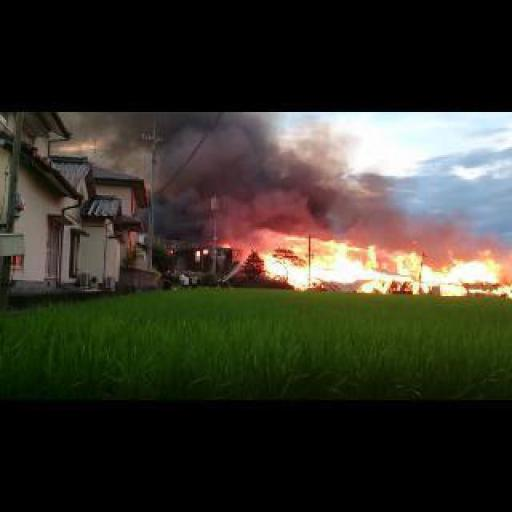smoke: (168, 112, 404, 244), (168, 248, 173, 253)
